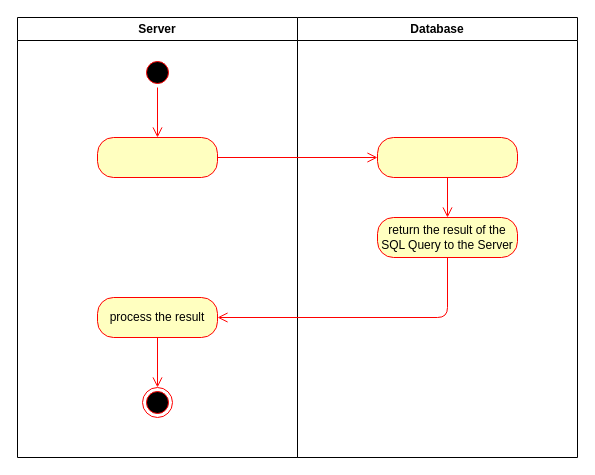
This 595x475 diagram has some shape labels left out. The centre of each missing label's shape, as x and y in pixels:
"Execute SQL Query to get the required ratings" belongs at (x=447, y=157).
"Get Ratings from the database" belongs at (x=157, y=157).
